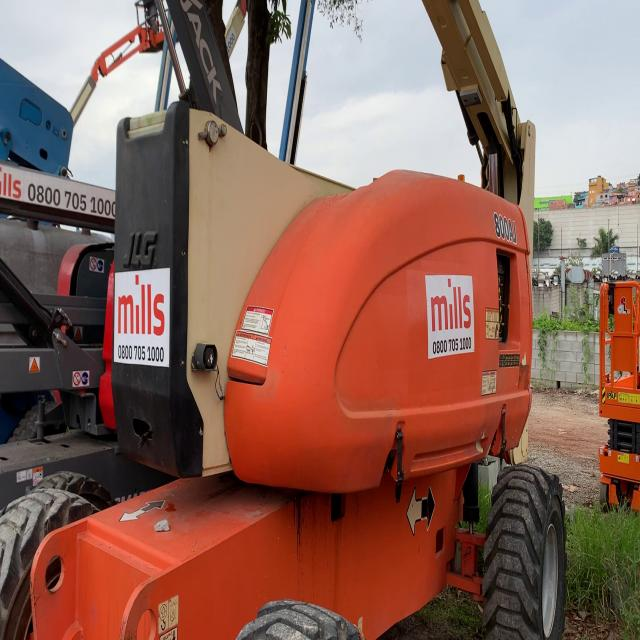Adesivos: (113, 264, 171, 370), (425, 272, 477, 362)
